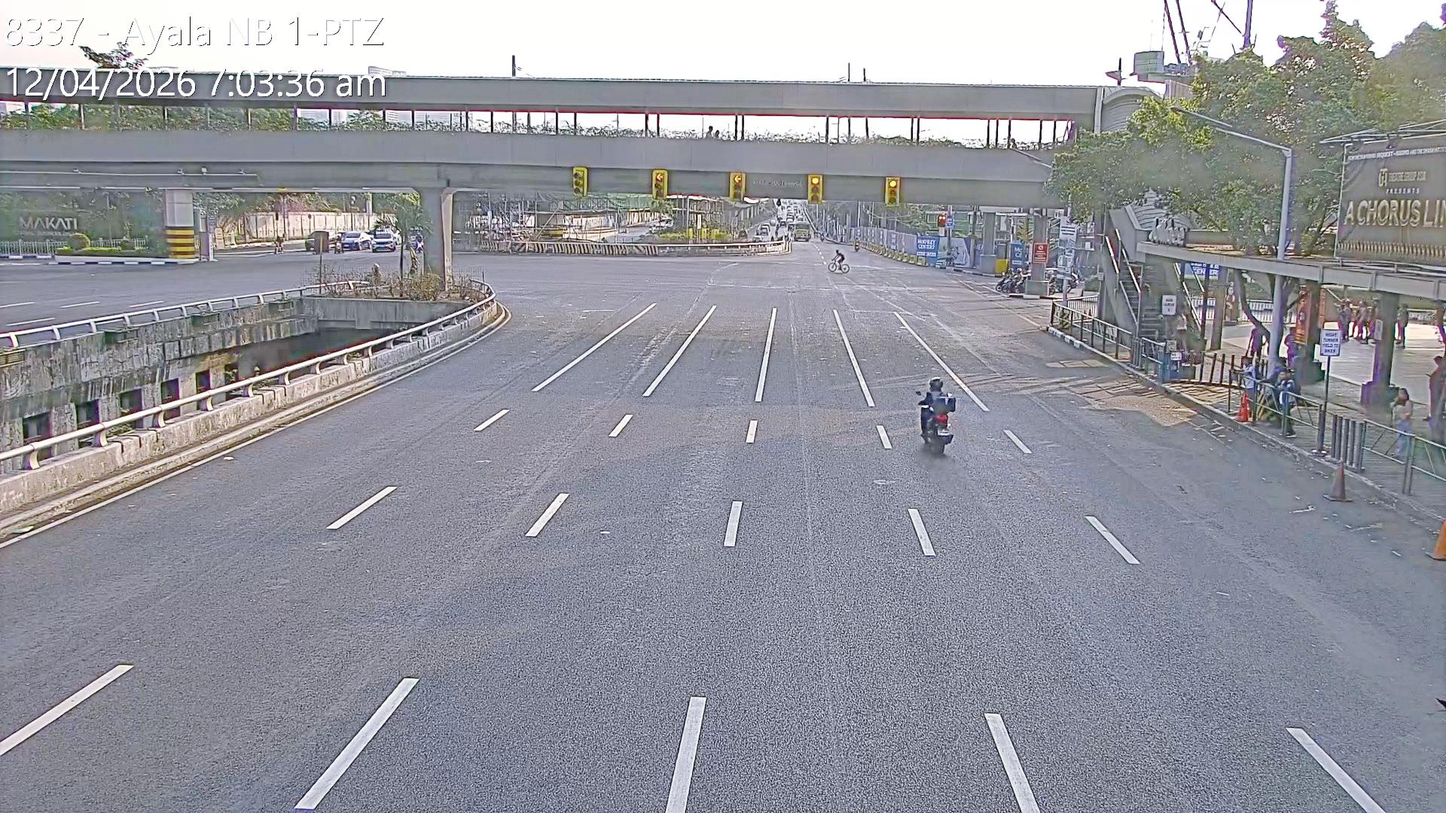Car: (340, 230, 371, 252), (368, 230, 398, 251)
Motor: (909, 377, 951, 454), (1000, 268, 1023, 293), (993, 267, 1016, 291), (273, 233, 285, 254), (333, 235, 343, 254)
